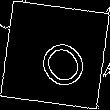O_NW: (23, 22, 87, 88)
